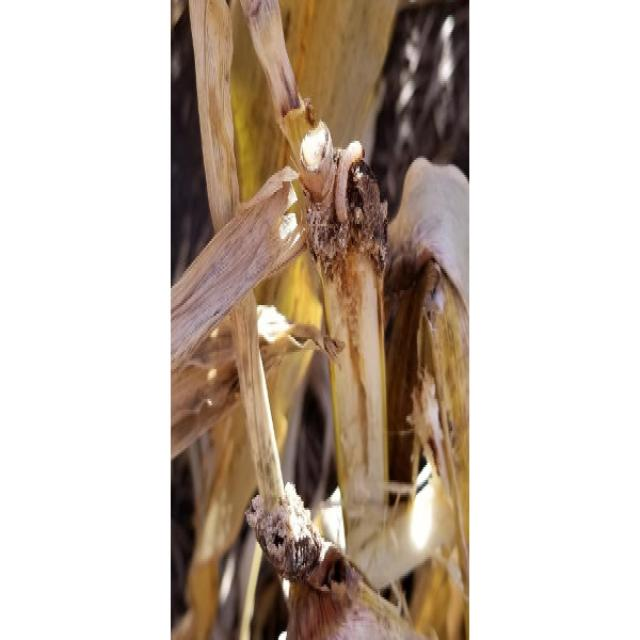cornborer-Larva-: (332, 134, 366, 241)
